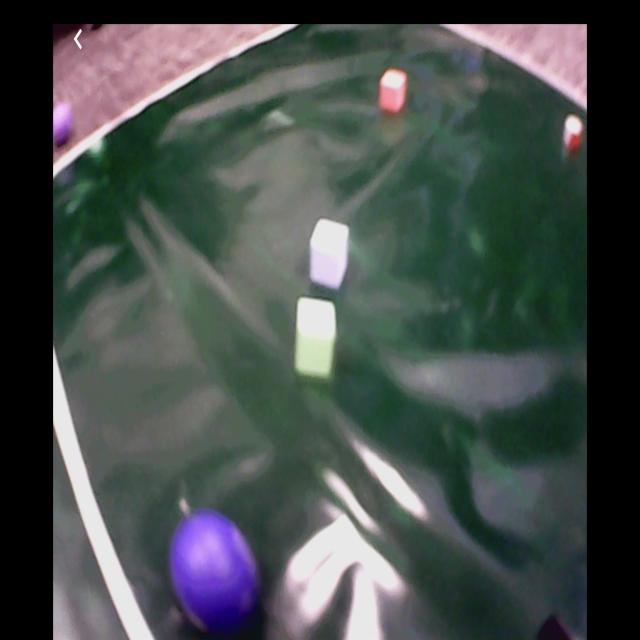ball: (170, 512, 257, 624), (54, 109, 73, 146)
